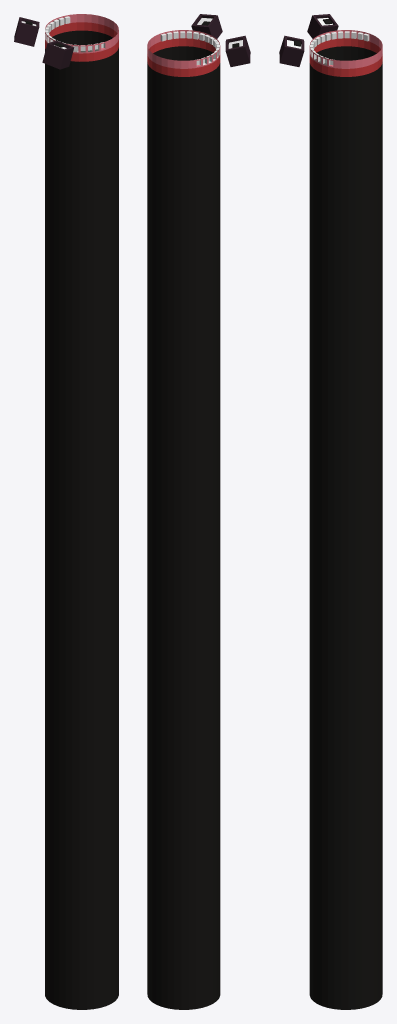
File: HoleMonster.fbx
3 views of the same model, side by side, from view 1: azimuth 30°, elevation 25°; view 2: azimuth 210°, elevation 25°; view 3: azimuth 330°, elevation 25° (orthographic).
Visible parts, largest first — view 1: Cylinder, Eyes; view 2: Cylinder, Eyes; view 3: Cylinder, Eyes.
Boxes of the visible parts, box(x1,y1,x2,y2) form: Cylinder: box(45, 14, 118, 1009); Eyes: box(14, 17, 74, 69); Cylinder: box(147, 30, 220, 1009); Eyes: box(191, 14, 250, 66); Cylinder: box(309, 30, 382, 1009); Eyes: box(279, 14, 338, 66).
Bounding box in the file's own units: 267 × 2895 × 247.
